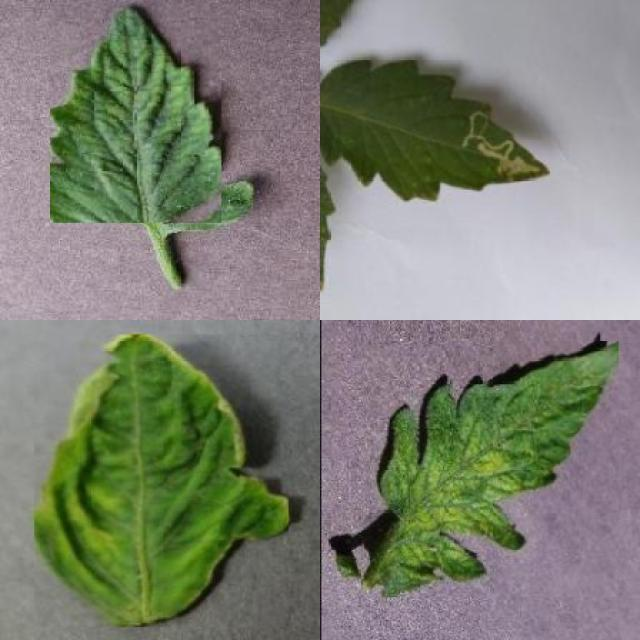Leaf Miner: (322, 60, 552, 203)
Mosaic Virus: (364, 340, 619, 597), (51, 3, 222, 223)
Yellow Leaf Curl Virus: (35, 334, 288, 627)
